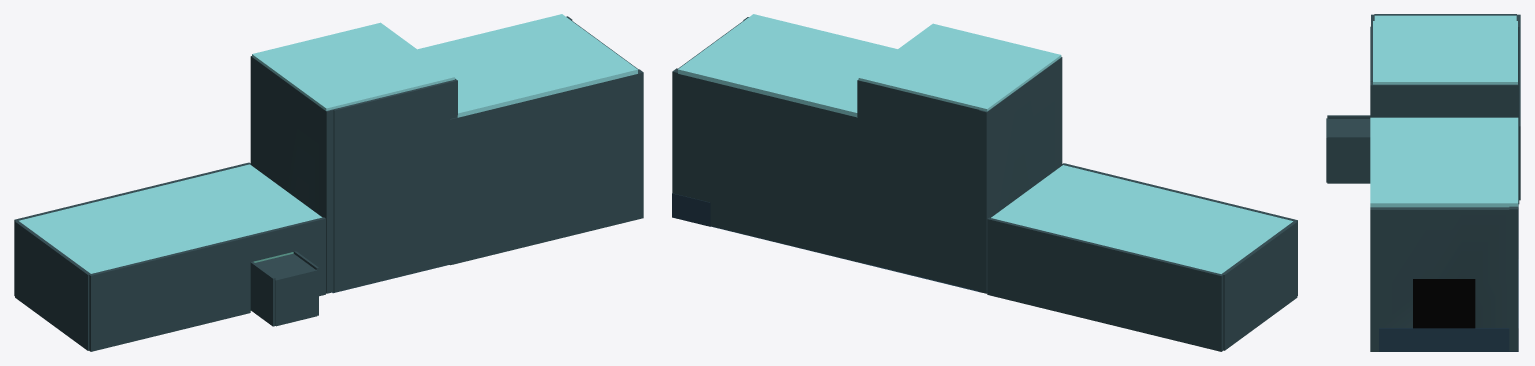
Rendered from Final_Temple_Interior.fbx.
3 views of the same model, side by side, from view 1: azimuth 30°, elevation 25°; view 2: azimuth 150°, elevation 25°; view 3: azimuth 270°, elevation 25° (orthographic). The views are drawn at different scales.
Parts seen in each view (by area): view 1: Temple_Backroom_Walls, Temple_MainRoom_Walls, polySurface209, polySurface206, polySurface92, polySurface91, polySurface243, polySurface199, polySurface202, polySurface207, polySurface208; view 2: Temple_Backroom_Walls, Temple_MainRoom_Walls, polySurface208, polySurface209, polySurface92, polySurface91, polySurface243, Temple_Entry_Floor, polySurface206; view 3: Temple_MainRoom_Walls, polySurface92, polySurface91, Temple_Backroom_Walls, Temple_Entry_Floor, Black_Wall, polySurface201, polySurface209, polySurface207, polySurface208, polySurface243, polySurface202.
Part boxes in pixels (<box>): Temple_Backroom_Walls: <box>250,56,457,293</box>; Temple_MainRoom_Walls: <box>450,16,643,265</box>; polySurface209: <box>19,164,322,273</box>; polySurface206: <box>89,217,325,351</box>; polySurface92: <box>417,14,637,117</box>; polySurface91: <box>252,22,454,110</box>; polySurface243: <box>15,220,90,350</box>; polySurface199: <box>275,270,317,326</box>; polySurface202: <box>250,261,275,326</box>; polySurface207: <box>255,253,315,279</box>; polySurface208: <box>14,162,250,295</box>; Temple_Backroom_Walls: <box>857,57,1062,293</box>; Temple_MainRoom_Walls: <box>672,17,864,263</box>; polySurface208: <box>987,217,1223,351</box>; polySurface209: <box>991,165,1293,273</box>; polySurface92: <box>678,14,897,117</box>; polySurface91: <box>858,23,1061,111</box>; polySurface243: <box>1221,221,1297,350</box>; Temple_Entry_Floor: <box>672,193,710,226</box>; polySurface206: <box>1062,163,1297,295</box>; Temple_MainRoom_Walls: <box>1370,206,1517,351</box>; polySurface92: <box>1370,117,1518,207</box>; polySurface91: <box>1373,21,1517,84</box>; Temple_Backroom_Walls: <box>1370,23,1519,258</box>; Temple_Entry_Floor: <box>1379,310,1518,351</box>; Black_Wall: <box>1413,279,1475,328</box>; polySurface201: <box>1327,136,1370,183</box>; polySurface209: <box>1374,15,1516,20</box>; polySurface207: <box>1328,119,1370,136</box>; polySurface208: <box>1516,14,1520,200</box>; polySurface243: <box>1374,14,1516,15</box>; polySurface202: <box>1327,115,1370,118</box>.
Bounding box in the file's own units: 71.59 × 23.23 × 22.31.
